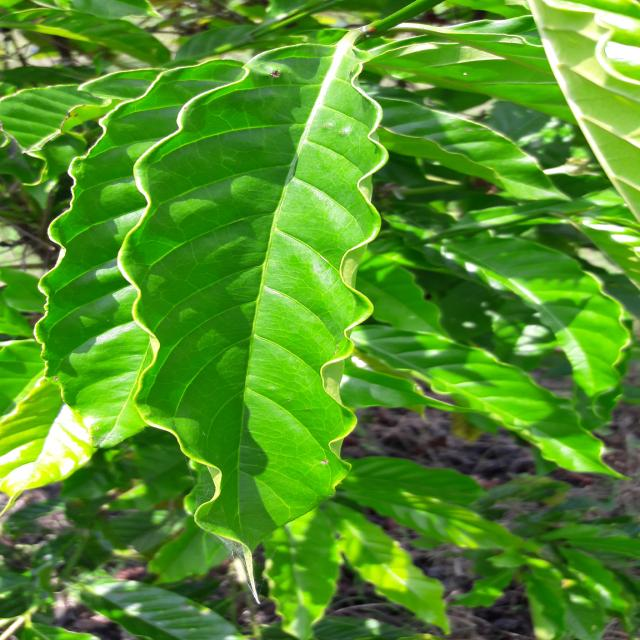Sanas: (121, 30, 388, 563)
